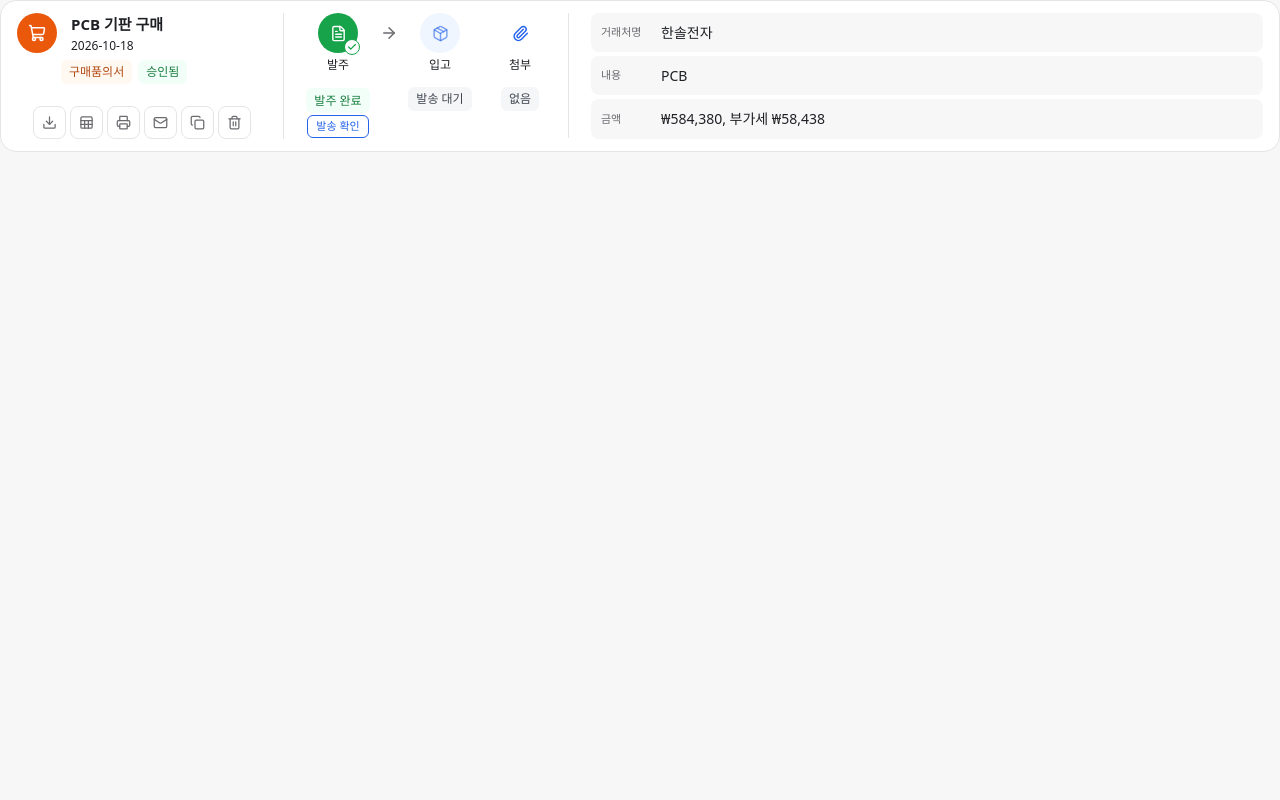
Scenario: 구매 품의서 카드 › 목록 밖을 누르면 닫히고, 아이콘을 눌러도 카드 전체 클릭으로 번지지 않는다
Click the button named "저장". click: (50,122)
box: [33,106,66,138]
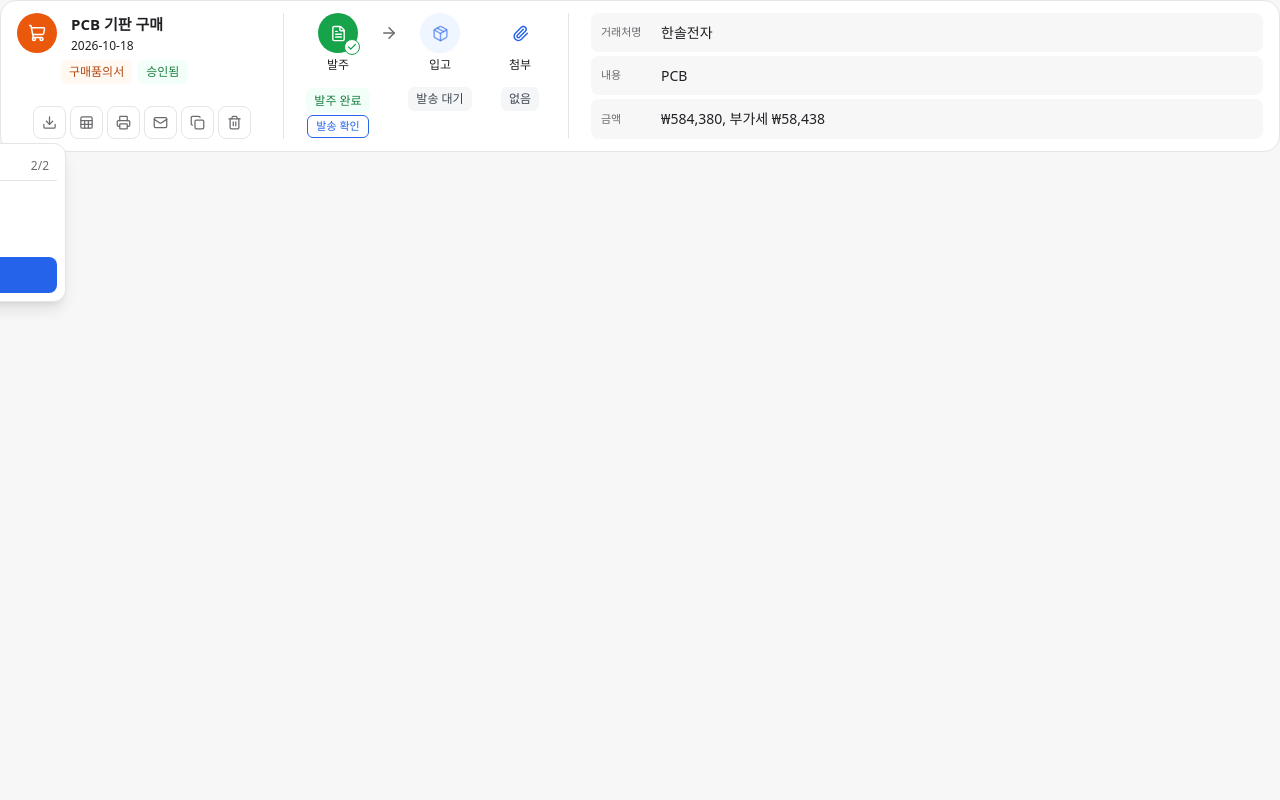
Press the mouse on the element that starts with "PCB 기판 구매" at (640,76), box [0,0,1279,152]
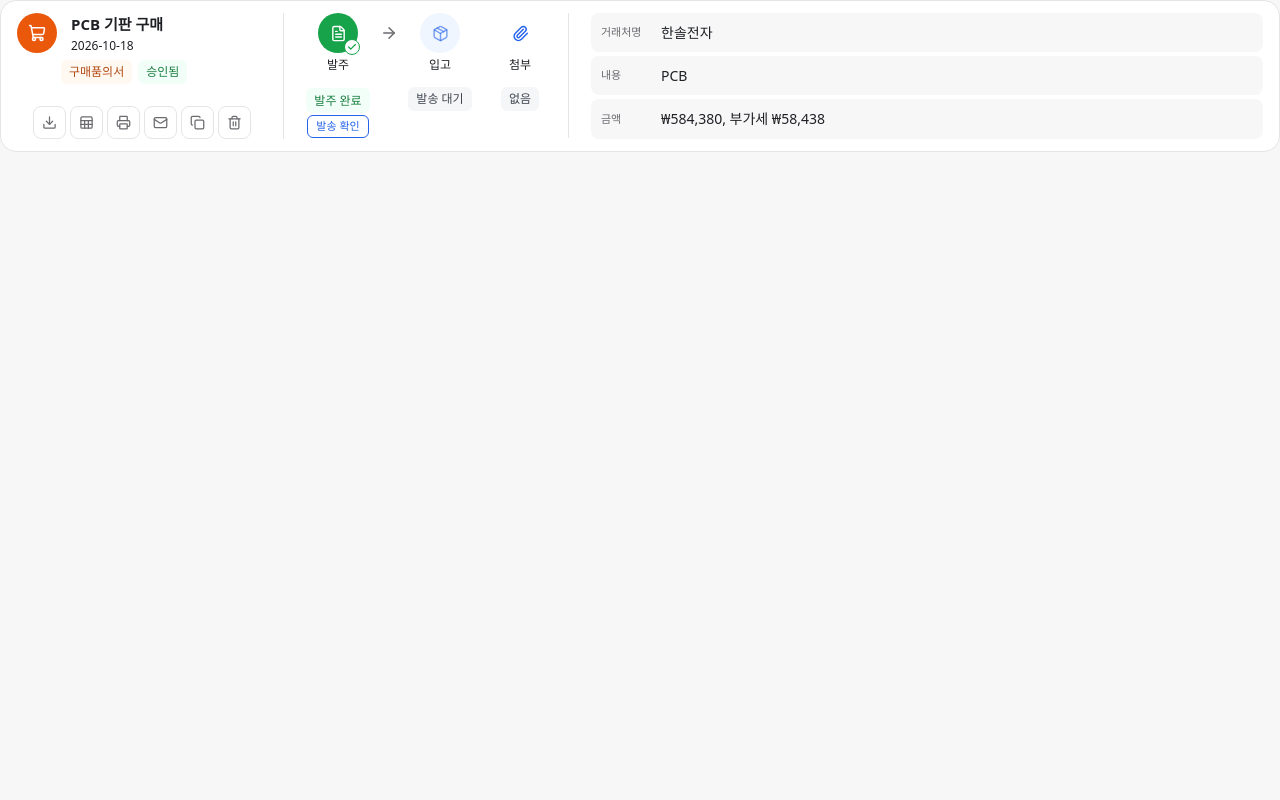
Result: the dialog is gone
